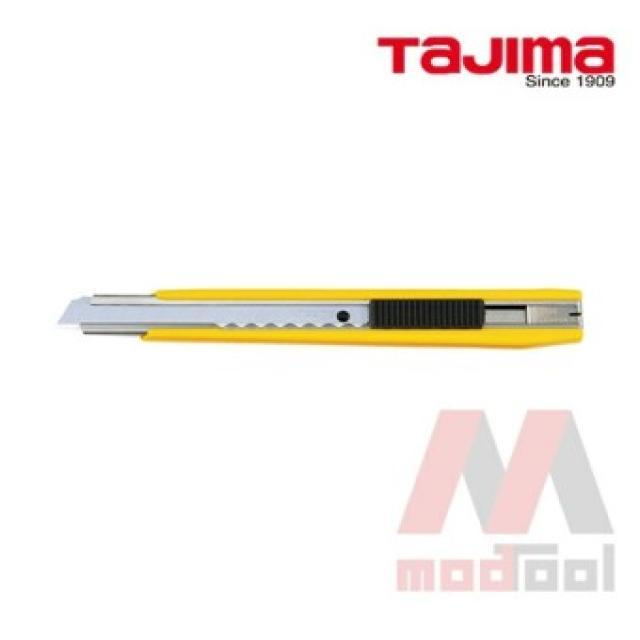cutter: (52, 282, 584, 358)
